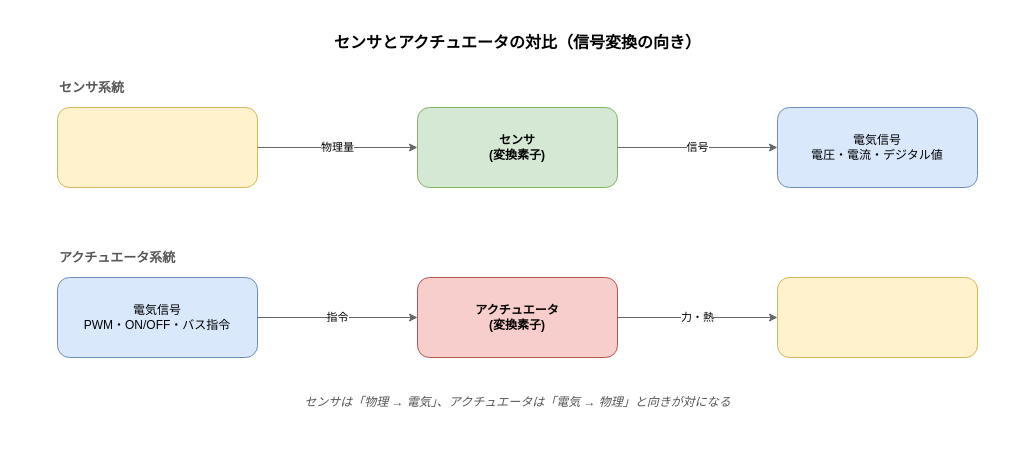
The diagram is 1034 pixels wide and 454 high, and some of its shapes have lost their labels. The box of each missing label's shape, as (x1, y1, x2, y2) in pixels:
物理動作 回転・移動・発熱 など: (776, 276, 978, 358)
物理現象 温度・加速度・光量 など: (56, 106, 258, 188)
